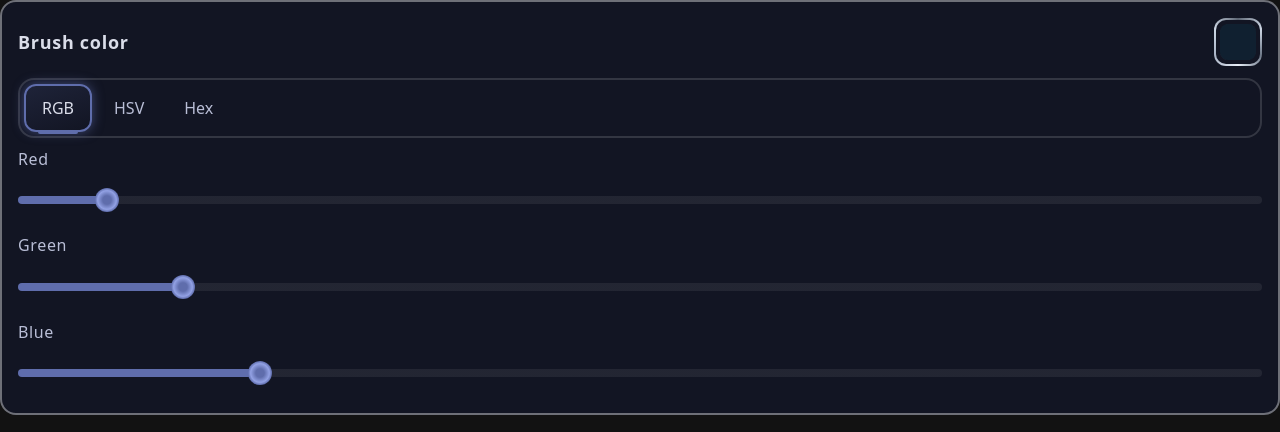
it: ColorPicker › resets the hex field to the canonical value on blur
The width and height of the screenshot is (1280, 432).
Click the radio button labelled "Hex": {"x": 199, "y": 108} [166, 84, 231, 132]
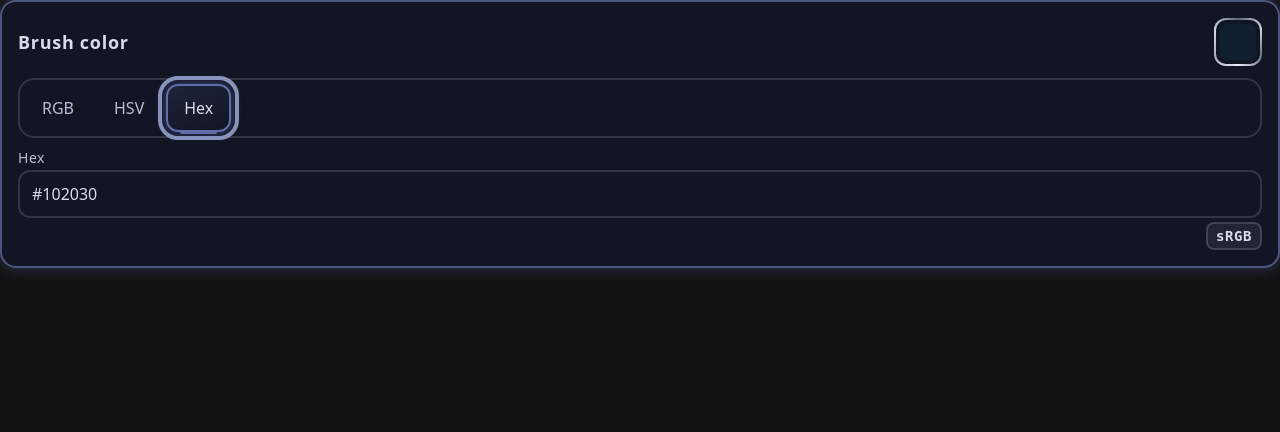
Replace the text in the field labelled "Hex" with "zz": {"x": 640, "y": 194} [18, 170, 1262, 218]
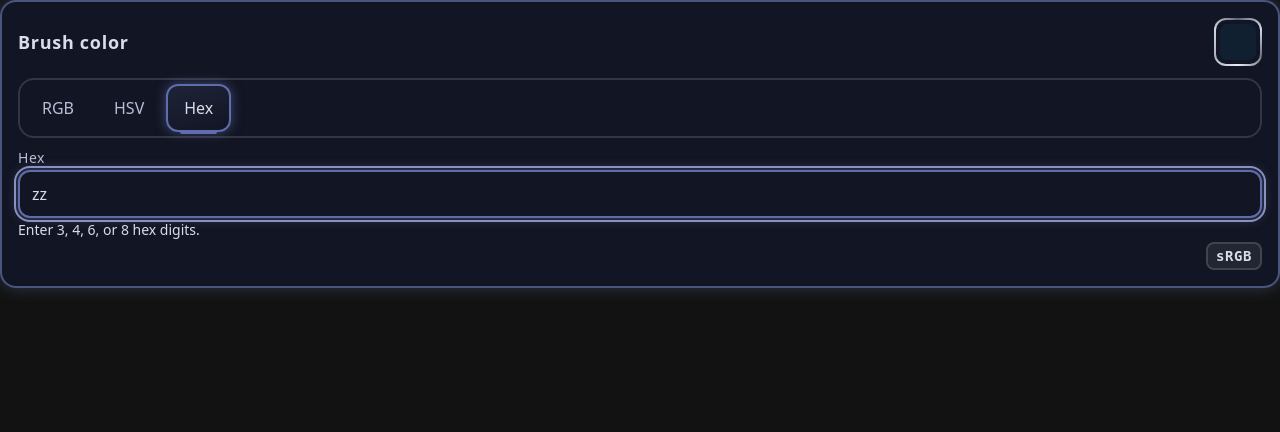
Leave the field labelled "Hex", box [18, 170, 1262, 218]
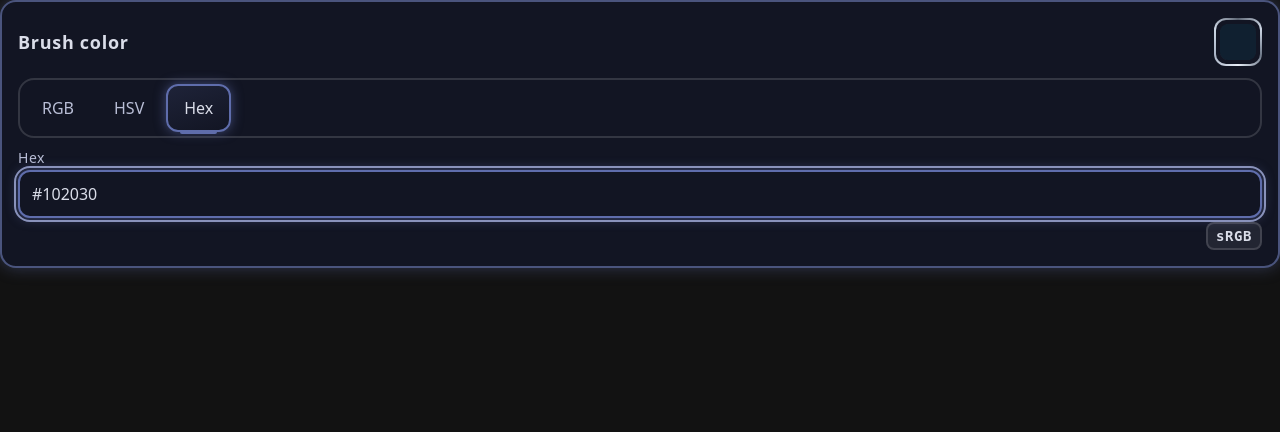
Now the field labelled "Hex" holds "#102030", box [18, 170, 1262, 218]
